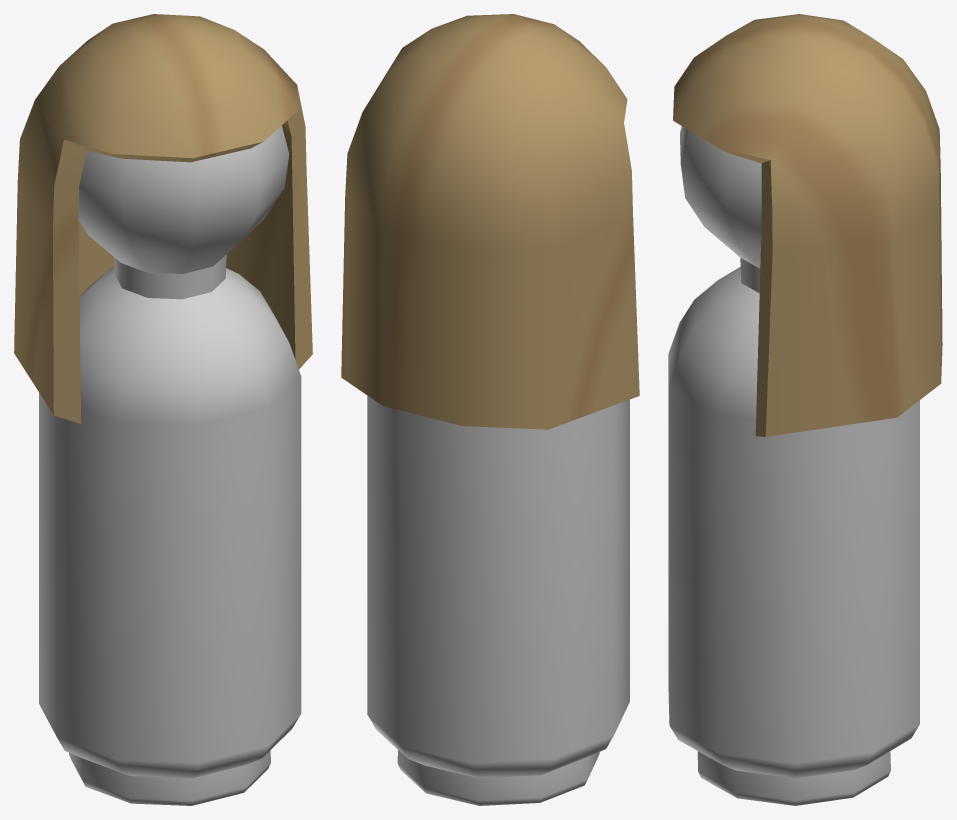
Rendered from Peg_Shirt_Long_BlondeHair.fbx.
3 views of the same model, side by side, from view 1: azimuth 30°, elevation 25°; view 2: azimuth 150°, elevation 25°; view 3: azimuth 270°, elevation 25° (orthographic).
Visible parts, largest first — view 1: Peg_Shirt_Long_BlondeHair; view 2: Peg_Shirt_Long_BlondeHair; view 3: Peg_Shirt_Long_BlondeHair.
Part boxes in pixels (x1=…): Peg_Shirt_Long_BlondeHair: x1=14, y1=14, x2=312, y2=805; Peg_Shirt_Long_BlondeHair: x1=341, y1=14, x2=639, y2=805; Peg_Shirt_Long_BlondeHair: x1=668, y1=14, x2=942, y2=805.
Size of the model in its own units: 2.13 by 5.86 by 1.96.
